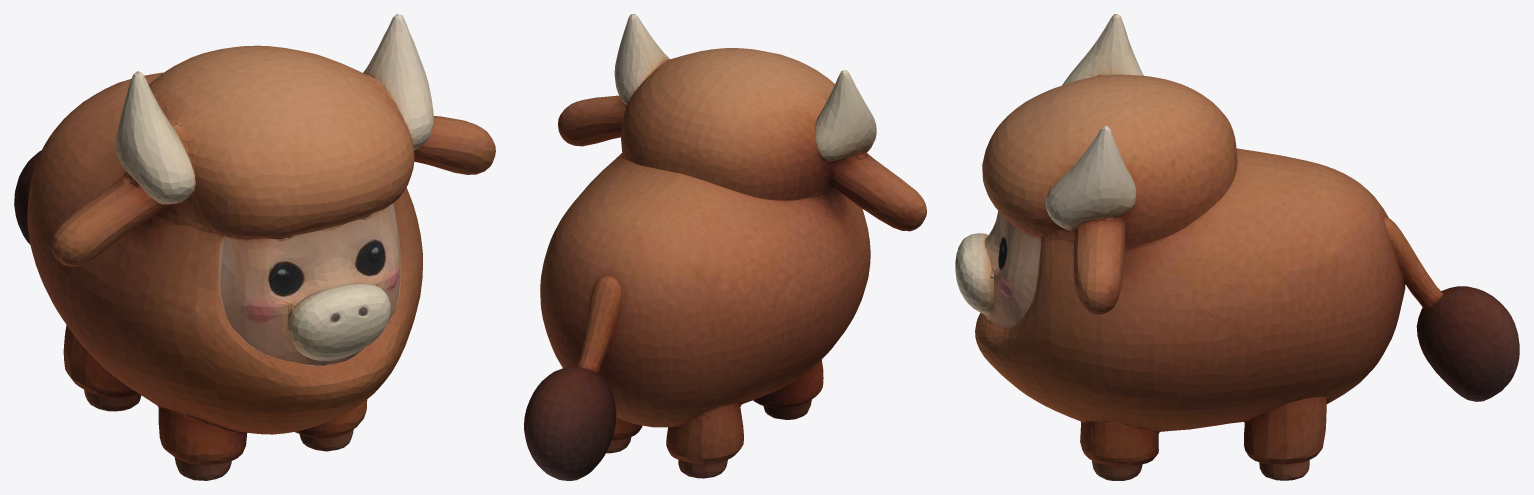
Rendered from yak.glb.
3 renders of one model, left to right at view 1: azimuth 30°, elevation 25°; view 2: azimuth 150°, elevation 25°; view 3: azimuth 270°, elevation 25°, orthographic. The views are drawn at different scales.
Parts seen in each view (by area): view 1: geometry_0; view 2: geometry_0; view 3: geometry_0.
Part boxes in pixels (<box>): geometry_0: <box>14,14,495,480</box>; geometry_0: <box>524,14,926,480</box>; geometry_0: <box>955,14,1519,480</box>.
Size of the model in its own units: 0.7986 by 0.7355 by 0.9986.
Materials: 1 (1 with a texture image).
